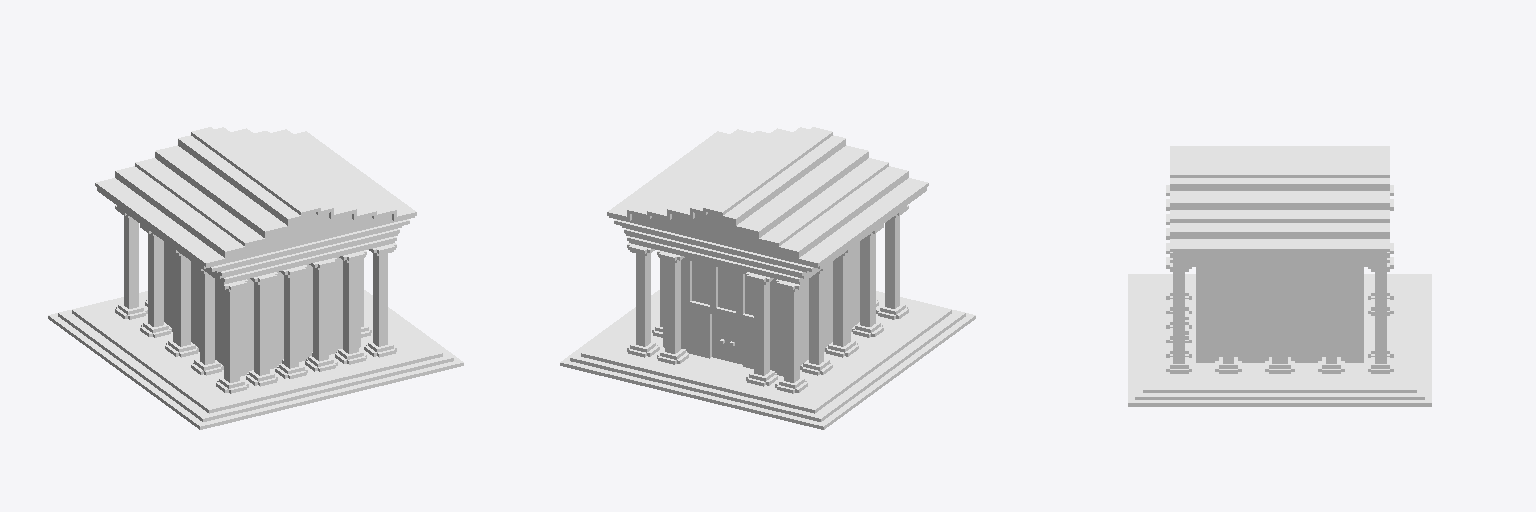
Rendered from TownHall.obj.
3 renders of one model, left to right at view 1: azimuth 30°, elevation 25°; view 2: azimuth 150°, elevation 25°; view 3: azimuth 270°, elevation 25°, orthographic.
Visible parts, largest first — view 1: object 1; view 2: object 1; view 3: object 1.
Part boxes in pixels (bbox=[...]): object 1: bbox=[48, 127, 463, 429]; object 1: bbox=[560, 127, 975, 429]; object 1: bbox=[1128, 146, 1431, 406].
Size of the model in its own units: 8 by 5 by 8.